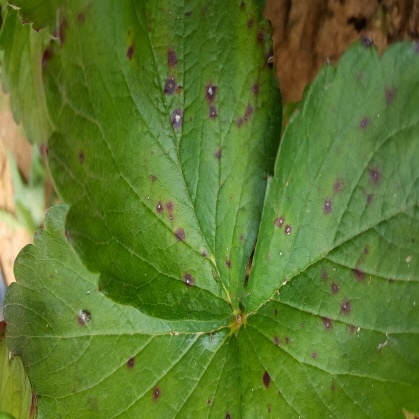Leaf_Spot: (40, 97, 284, 418), (1, 0, 242, 318), (235, 0, 418, 383)
